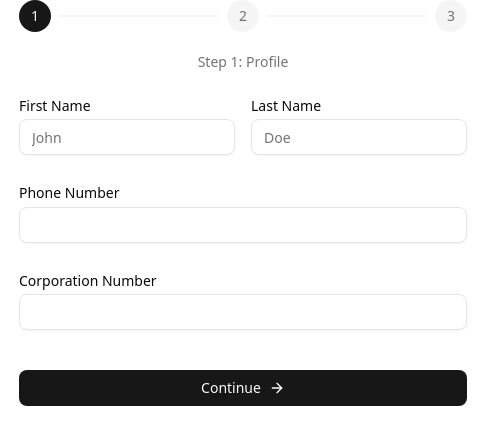
it: OnboardingPage › Step 1: Profile Form › shows validation error for empty first name on blur
Click the field labelled "First Name": (127, 137) x1=19 y1=119 x2=235 y2=155
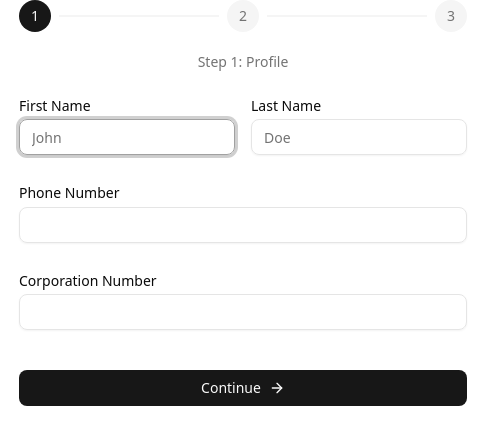
Press Tab
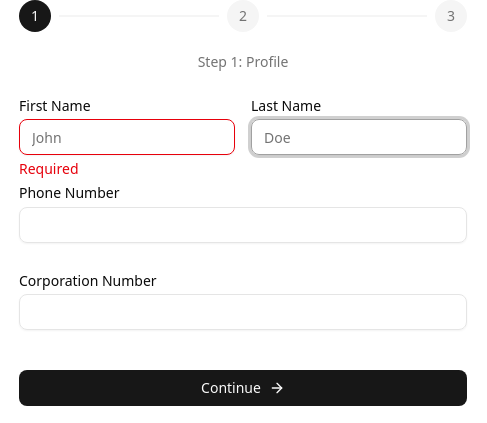
Expected: the text "Required" is shown, x1=19 y1=159 x2=78 y2=178
